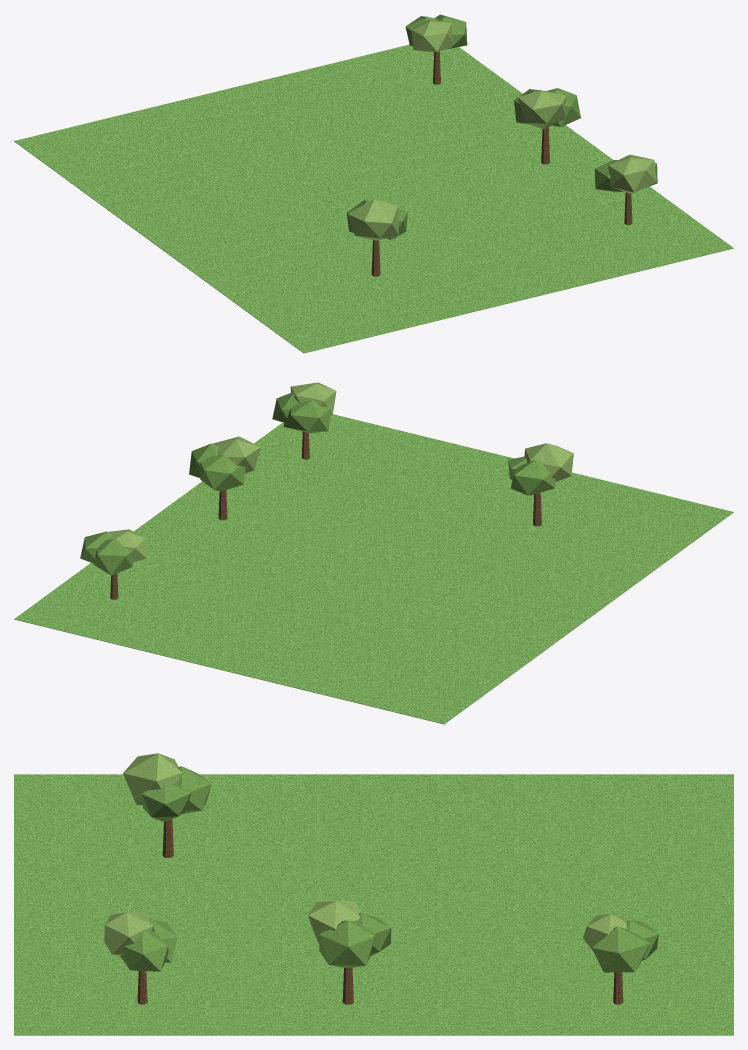
Rendered from sports_reception.glb.
3 views of the same model, one above another, from view 1: azimuth 30°, elevation 25°; view 2: azimuth 150°, elevation 25°; view 3: azimuth 270°, elevation 25° (orthographic). The views are drawn at different scales.
Visible parts, largest first — view 1: SRc_Lawn, SRc_Tree0_Leaf1, SRc_Tree0_Leaf0, SRc_Tree0_Trunk; view 2: SRc_Lawn, SRc_Tree0_Leaf0, SRc_Tree0_Leaf1, SRc_Tree0_Trunk; view 3: SRc_Lawn, SRc_Tree0_Leaf0, SRc_Tree0_Leaf1, SRc_Tree0_Trunk.
Part boxes in pixels (x1=…): SRc_Lawn: x1=14, y1=44, x2=733, y2=353; SRc_Tree0_Leaf1: x1=348, y1=19, x2=656, y2=240; SRc_Tree0_Leaf0: x1=347, y1=14, x2=657, y2=239; SRc_Tree0_Trunk: x1=371, y1=51, x2=632, y2=276; SRc_Lawn: x1=14, y1=414, x2=733, y2=724; SRc_Tree0_Leaf0: x1=80, y1=391, x2=555, y2=575; SRc_Tree0_Leaf1: x1=108, y1=382, x2=573, y2=561; SRc_Tree0_Trunk: x1=110, y1=431, x2=541, y2=599; SRc_Lawn: x1=14, y1=774, x2=733, y2=1035; SRc_Tree0_Leaf0: x1=120, y1=766, x2=658, y2=972; SRc_Tree0_Leaf1: x1=104, y1=753, x2=627, y2=955; SRc_Tree0_Trunk: x1=137, y1=819, x2=623, y2=1004.
Size of the model in its own units: 24 by 4.29 by 28.
4 materials, 4 textured.
